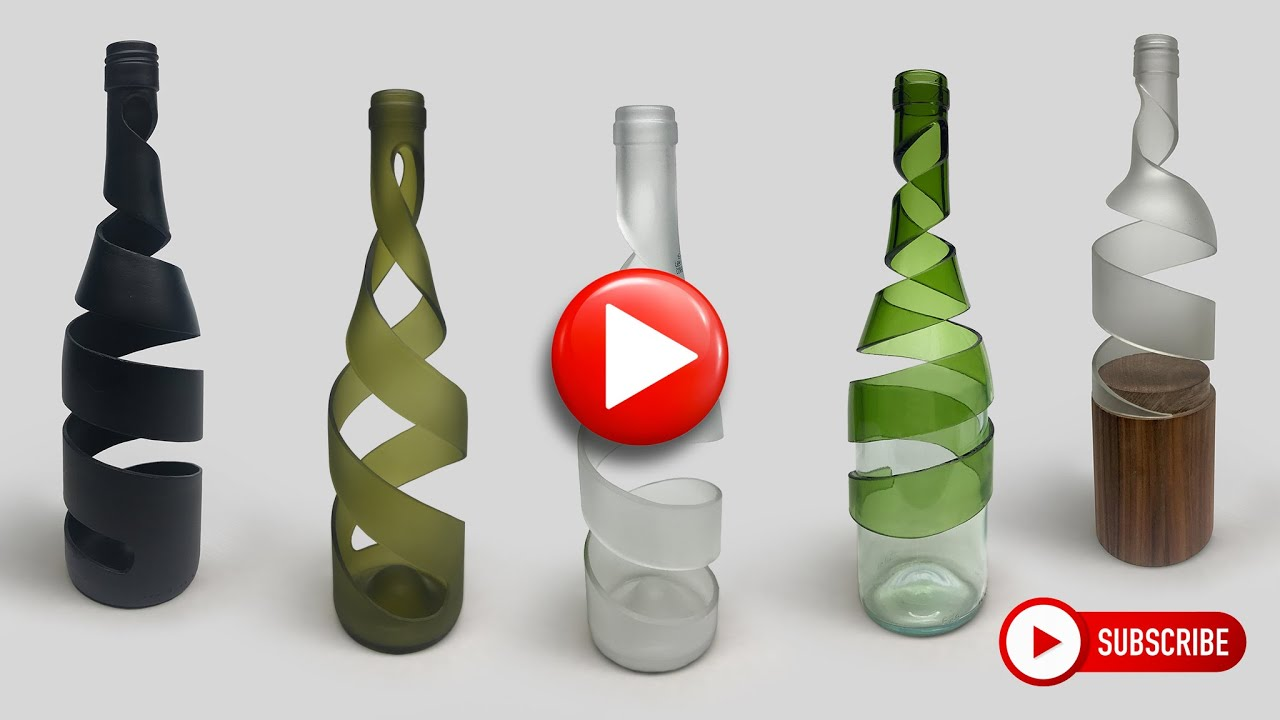glass_bottle: (43, 23, 224, 615), (317, 82, 491, 666), (835, 58, 1003, 650), (1069, 25, 1230, 585)
